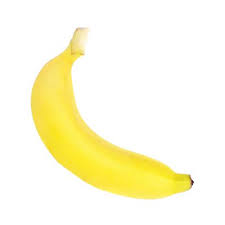banana: (30, 27, 196, 200)
